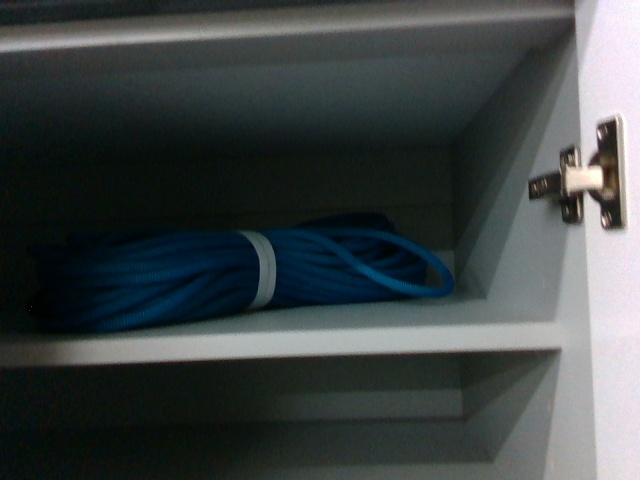rope: (41, 215, 454, 318)
